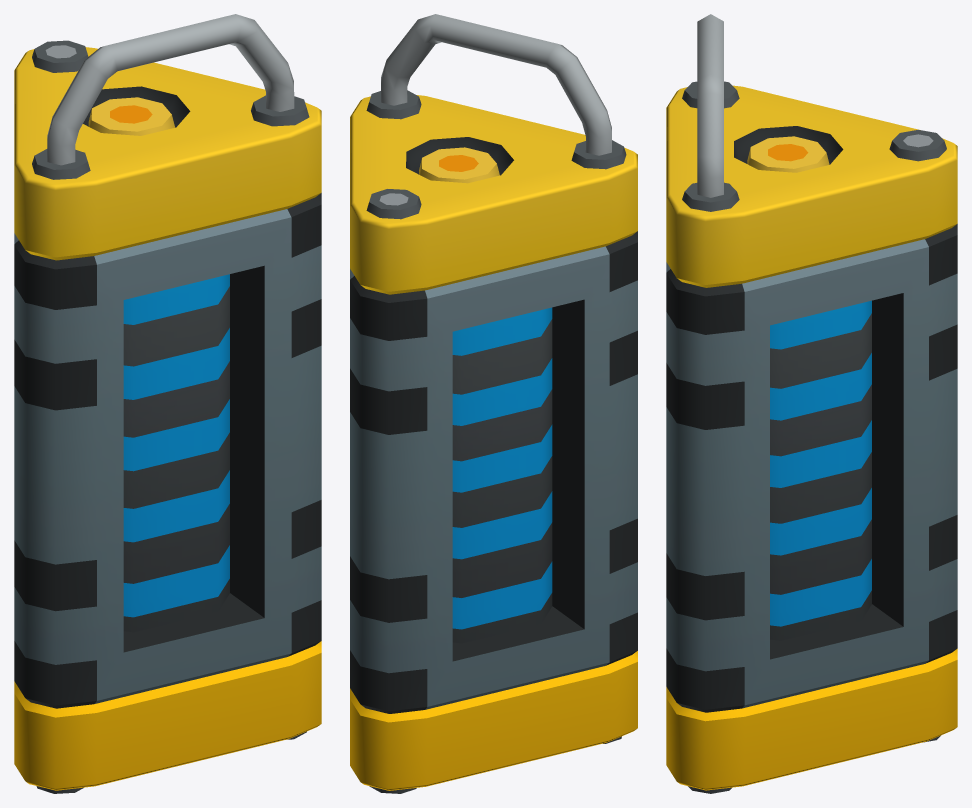
Rendered from Battery_015.fbx.
3 views of the same model, side by side, from view 1: azimuth 30°, elevation 25°; view 2: azimuth 150°, elevation 25°; view 3: azimuth 270°, elevation 25° (orthographic). The views are drawn at different scales.
Visible parts, largest first — view 1: Battery_015; view 2: Battery_015; view 3: Battery_015.
Part boxes in pixels (x1=…): Battery_015: x1=14, y1=14, x2=321, y2=793; Battery_015: x1=350, y1=14, x2=637, y2=793; Battery_015: x1=666, y1=14, x2=957, y2=793.
Bounding box in the file's own units: 40.07 × 35.99 × 93.74.
